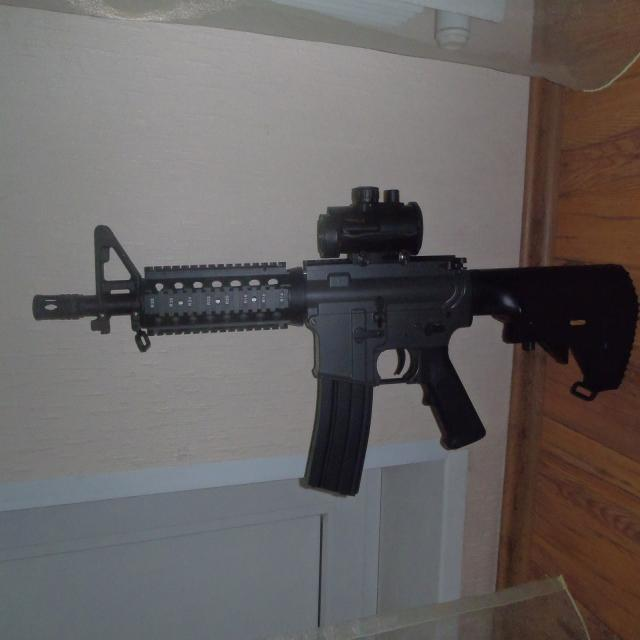firearm: (32, 184, 640, 497)
